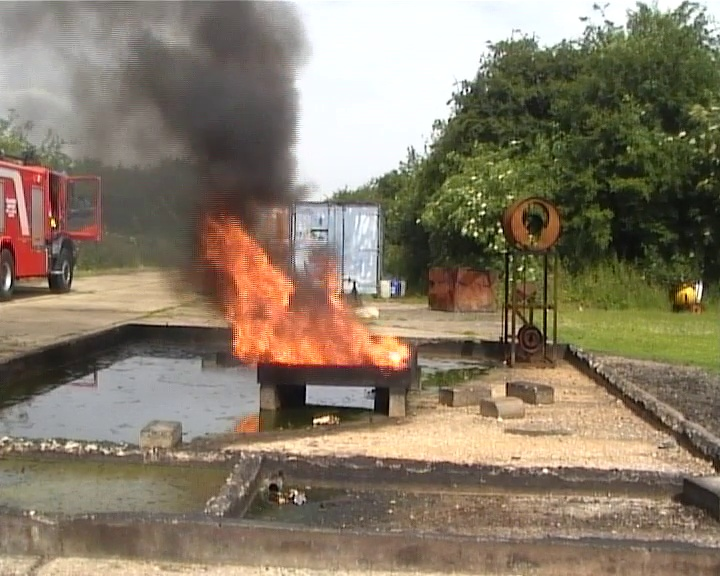fire: (210, 215, 410, 367)
